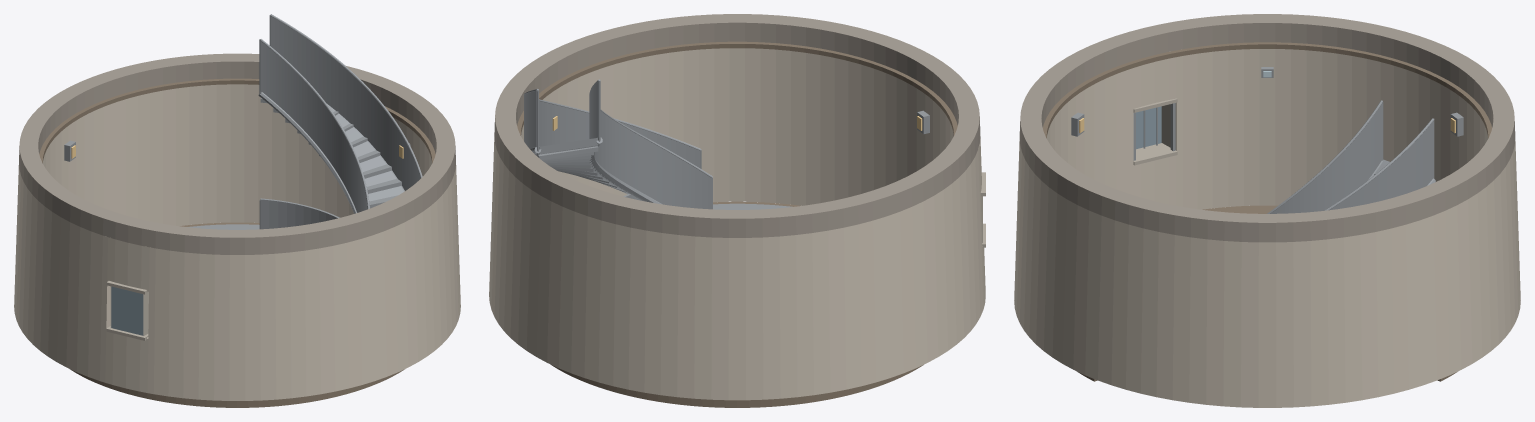
The model's file is SM_Shell_F2.fbx.
The picture shows the model from 3 angles, left to right: view 1: azimuth 30°, elevation 25°; view 2: azimuth 150°, elevation 25°; view 3: azimuth 270°, elevation 25°; orthographic projection. The views are drawn at different scales.
Visible parts, largest first — view 1: SM_Safety_F2_F3_Outer, SM_Safety_F2_F3_Inner, SM_Wall_F2_7_0, SM_Wall_F2_5_0, SM_Wall_F2_9_0, SM_Wall_F2_6_0, SM_Wall_F2_8_0, SM_Wall_F2_10_0, SM_Wall_F2_4_0, SM_Wall_F2_11_0, SM_Wall_F2_3_0, SM_Wall_F2_12_0 (+69 smaller); view 2: SM_Safety_F2_F3_Inner, SM_Trim_F2_Ceiling, SM_Safety_F2_F3_Outer, SM_Wall_F2_40_0, SM_Wall_F2_41_0, SM_Wall_F2_36_0, SM_Wall_F2_42_0, SM_Wall_F2_37_0, SM_Wall_F2_38_0, SM_Wall_F2_39_0, SM_Wall_F2_43_0, SM_Wall_F2_35_0 (+86 smaller); view 3: SM_Safety_F2_F3_Inner, SM_Trim_F2_Ceiling, SM_Safety_F2_F3_Outer, SM_Wall_F2_69_0, SM_Wall_F2_67_0, SM_Wall_F2_71_0, SM_Wall_F2_68_0, SM_Wall_F2_70_0, SM_Wall_F2_66_0, SM_Wall_F2_72_0, SM_Wall_F2_65_0, SM_Wall_F2_73_0 (+100 smaller).
Part boxes in pixels (x1,y1,x2,y2): SM_Safety_F2_F3_Outer: (270, 16, 420, 190); SM_Safety_F2_F3_Inner: (260, 41, 367, 212); SM_Wall_F2_7_0: (229, 255, 245, 400); SM_Wall_F2_5_0: (260, 253, 276, 400); SM_Wall_F2_9_0: (198, 253, 214, 400); SM_Wall_F2_6_0: (245, 254, 260, 400); SM_Wall_F2_8_0: (214, 254, 229, 400); SM_Wall_F2_10_0: (183, 252, 199, 399); SM_Wall_F2_4_0: (275, 252, 291, 399); SM_Wall_F2_11_0: (168, 250, 184, 398); SM_Wall_F2_3_0: (290, 250, 306, 398); SM_Wall_F2_12_0: (153, 248, 169, 396); SM_Safety_F2_F3_Inner: (589, 81, 711, 209); SM_Trim_F2_Ceiling: (517, 41, 957, 135); SM_Safety_F2_F3_Outer: (524, 90, 700, 168); SM_Wall_F2_40_0: (711, 237, 728, 400); SM_Wall_F2_41_0: (694, 236, 711, 399); SM_Wall_F2_36_0: (779, 235, 797, 398); SM_Wall_F2_42_0: (677, 235, 695, 398); SM_Wall_F2_37_0: (763, 236, 780, 399); SM_Wall_F2_38_0: (746, 237, 763, 400); SM_Wall_F2_39_0: (728, 238, 745, 400); SM_Wall_F2_43_0: (660, 233, 678, 396); SM_Wall_F2_35_0: (796, 233, 814, 396); SM_Safety_F2_F3_Inner: (1270, 102, 1382, 213); SM_Trim_F2_Ceiling: (1043, 42, 1491, 138); SM_Safety_F2_F3_Outer: (1329, 120, 1434, 210); SM_Wall_F2_69_0: (1258, 242, 1276, 407); SM_Wall_F2_67_0: (1293, 241, 1311, 407); SM_Wall_F2_71_0: (1223, 241, 1241, 407); SM_Wall_F2_68_0: (1276, 242, 1293, 407); SM_Wall_F2_70_0: (1241, 242, 1258, 407); SM_Wall_F2_66_0: (1310, 239, 1328, 406); SM_Wall_F2_72_0: (1206, 239, 1224, 406); SM_Wall_F2_65_0: (1327, 237, 1345, 404); SM_Wall_F2_73_0: (1189, 237, 1207, 404).
Size of what is drawn, in the model's own units: 829 by 472 by 830.
